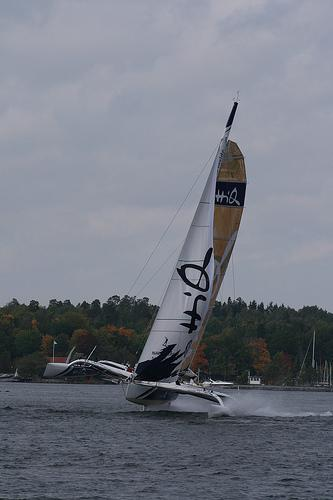Ship: (124, 101, 270, 420)
